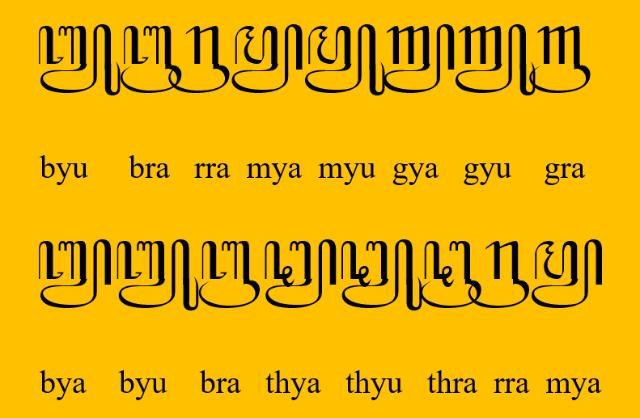br: (198, 240, 260, 310), (121, 26, 181, 94)
by: (38, 238, 112, 308)
byu: (117, 238, 199, 312), (37, 24, 121, 96)
gr: (530, 26, 590, 94)
gy: (383, 24, 455, 94)
gyu: (455, 22, 535, 96)
my: (231, 22, 303, 94), (531, 239, 603, 309)
myu: (306, 24, 386, 96)
rr: (168, 24, 230, 94), (468, 239, 530, 308)
thr: (422, 240, 482, 308)
thy: (264, 239, 338, 309)
thyu: (340, 239, 422, 311)
